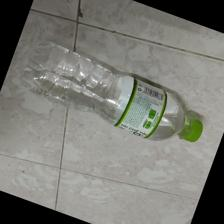Dasani: (18, 40, 205, 146)
